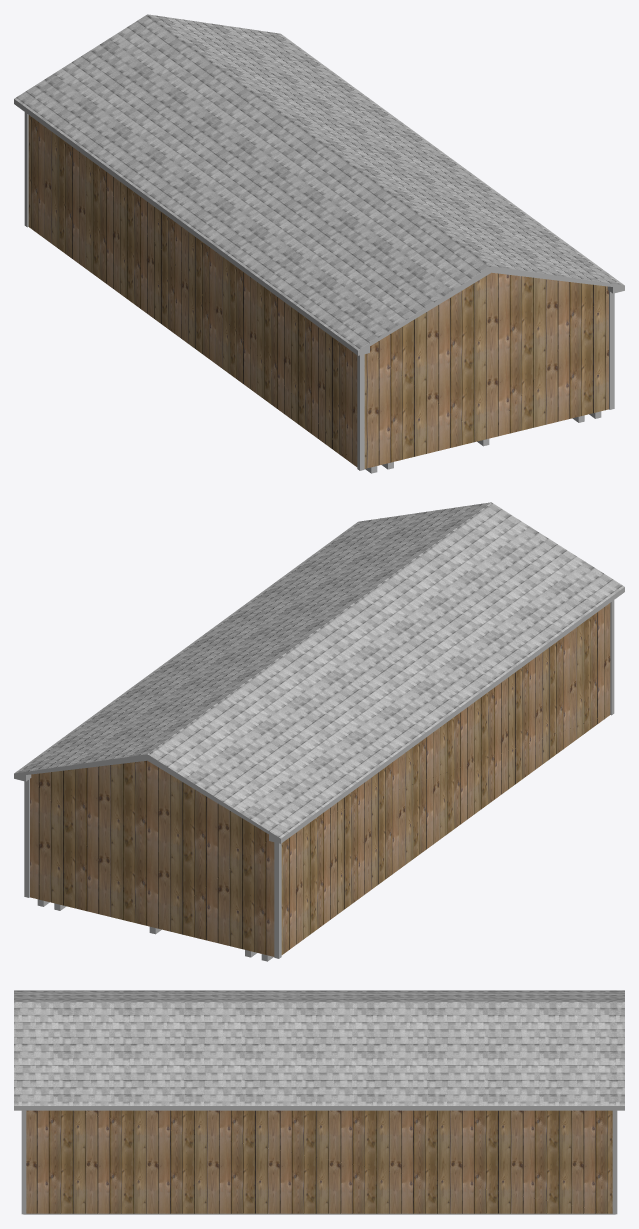
File: Classic A-Frame_14x32.obj
The picture shows the model from 3 angles, top to bottom: view 1: azimuth 30°, elevation 25°; view 2: azimuth 150°, elevation 25°; view 3: azimuth 270°, elevation 25°; orthographic projection. The views are drawn at different scales.
Visible parts, largest first — view 1: Roof, Shed, Sides, Trim; view 2: Roof, Shed, Sides, Trim; view 3: Roof, Shed, Sides, Trim, Floor.
Part boxes in pixels (x1=…): Roof: x1=14, y1=14, x2=624, y2=350; Shed: x1=28, y1=115, x2=608, y2=468; Sides: x1=14, y1=99, x2=624, y2=355; Trim: x1=24, y1=112, x2=614, y2=470; Roof: x1=14, y1=502, x2=624, y2=838; Shed: x1=30, y1=603, x2=610, y2=956; Sides: x1=14, y1=587, x2=624, y2=843; Trim: x1=24, y1=600, x2=614, y2=958; Roof: x1=14, y1=990, x2=624, y2=1105; Shed: x1=26, y1=1110, x2=612, y2=1213; Sides: x1=14, y1=1106, x2=624, y2=1110; Trim: x1=21, y1=1110, x2=617, y2=1214; Floor: x1=23, y1=1213, x2=615, y2=1214.
Size of the model in its own units: 4.5 by 2.96 by 10.06.
